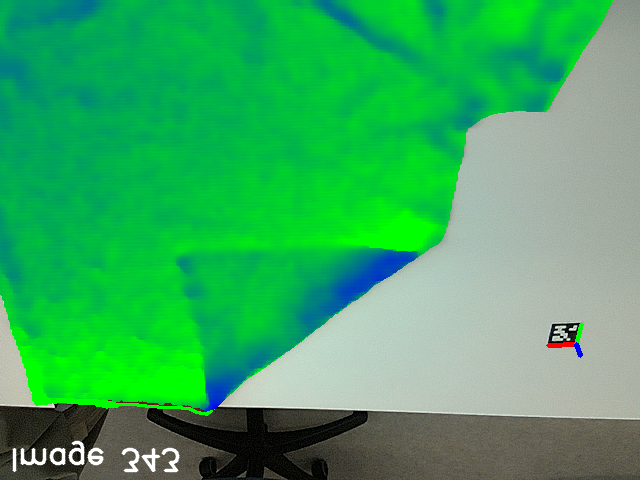V: (162, 231, 229, 304)
